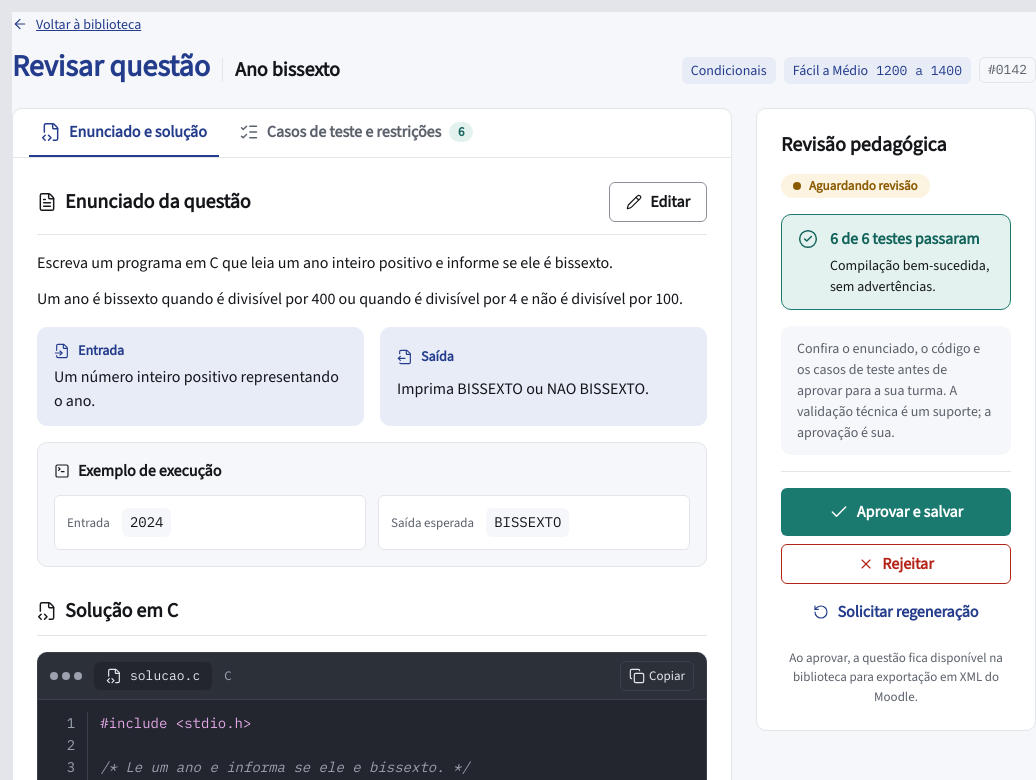
ReviewView › mantém o texto editado quando o salvamento falha
Click the button "Editar".
click(658, 202)  # box [609,182,707,222]
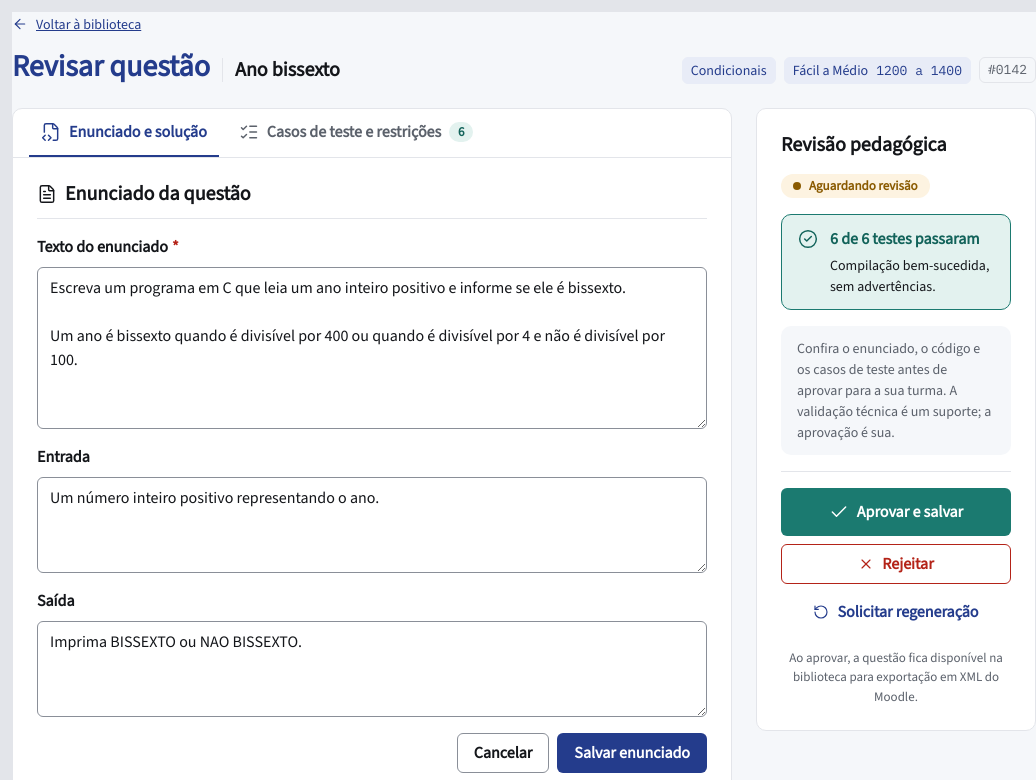
Replace the text in the text box labelled "Texto do enunciado*" with "Novo enunciado" at (372,348), box [37,267,707,429]
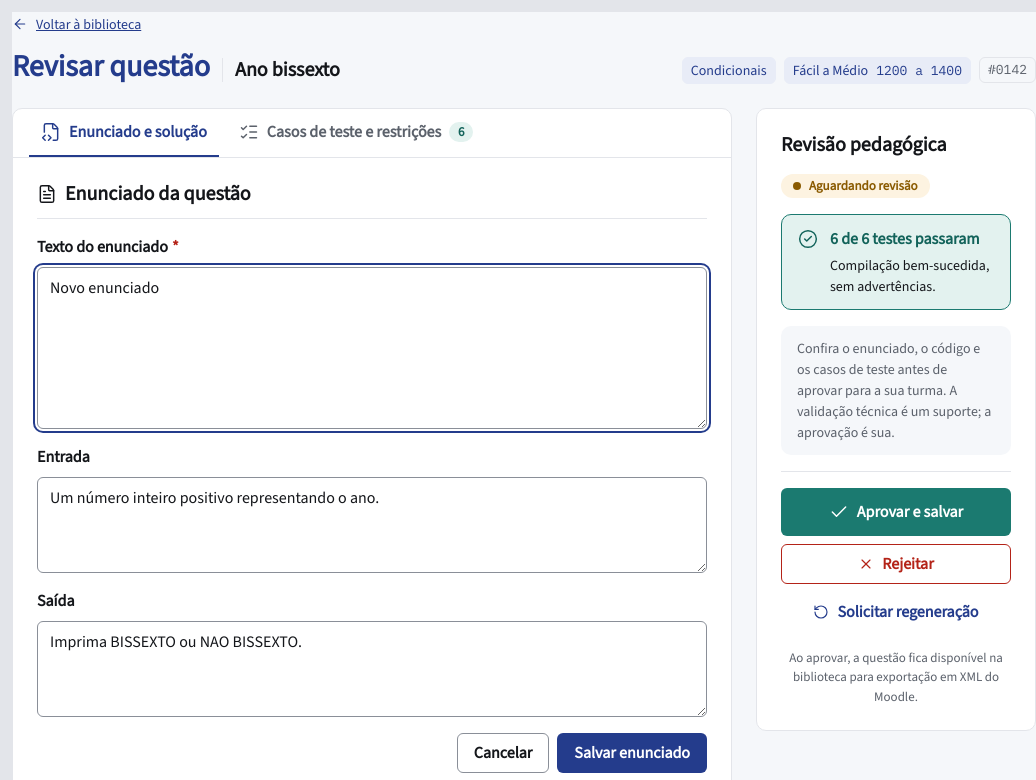
Click the button "Salvar enunciado".
click(632, 753)  # box [557,733,707,773]
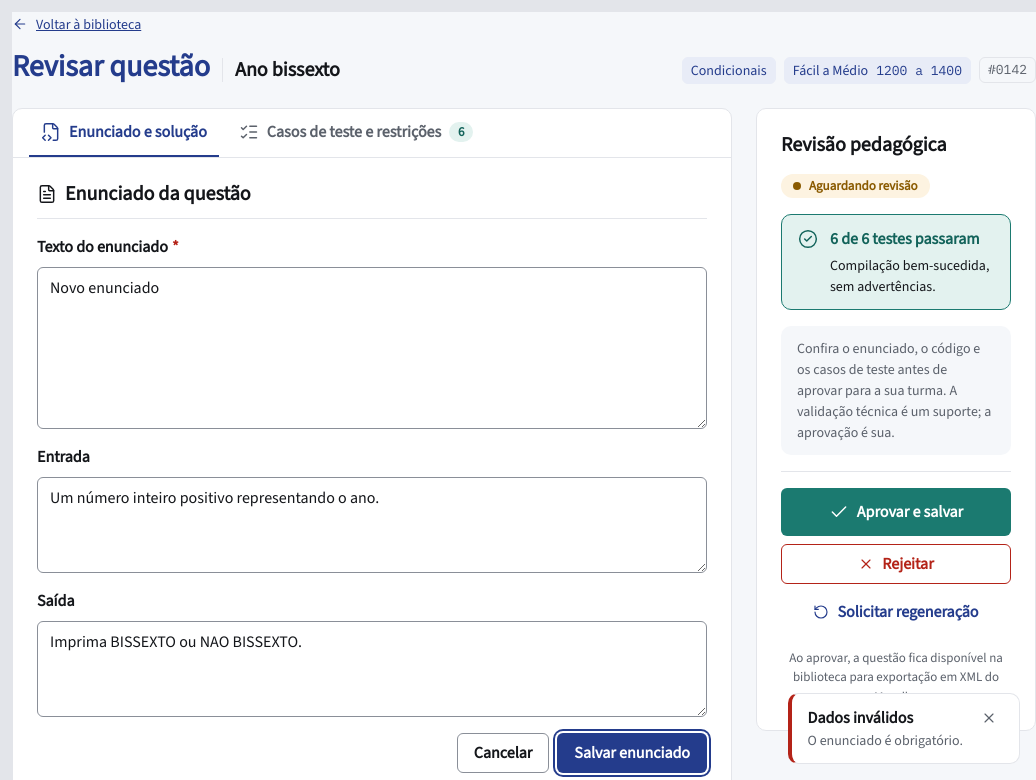
Now the text "O enunciado é obrigatório." is shown, box [808,730,963,751]
